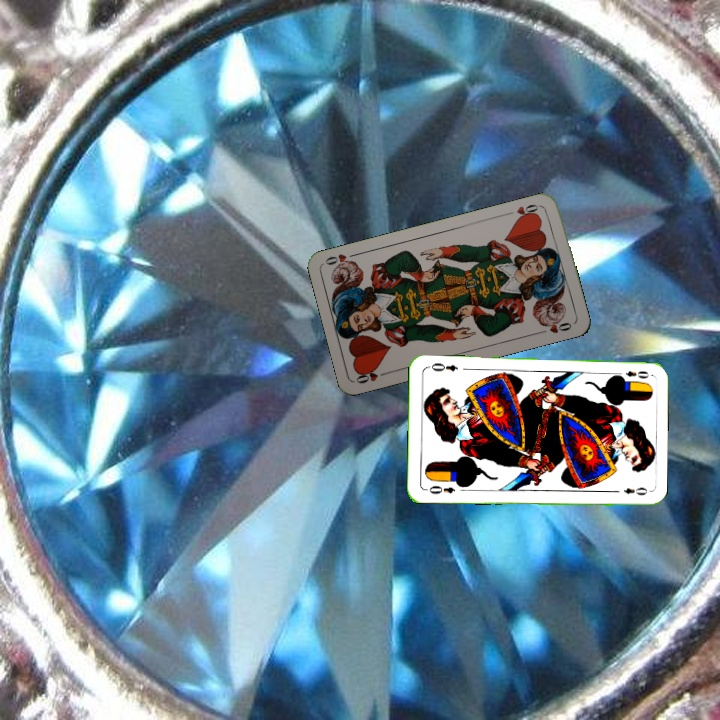EO: (612, 367, 652, 381), (422, 482, 458, 497)
HO: (503, 200, 544, 223), (352, 364, 392, 386)
